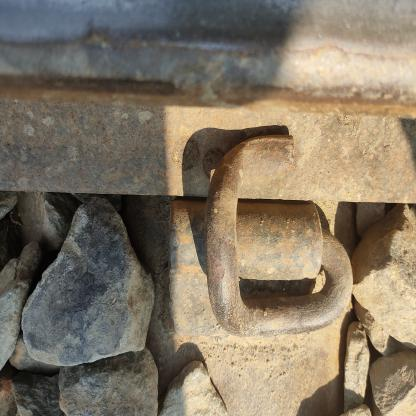Non Defective 1: (148, 102, 368, 370)
